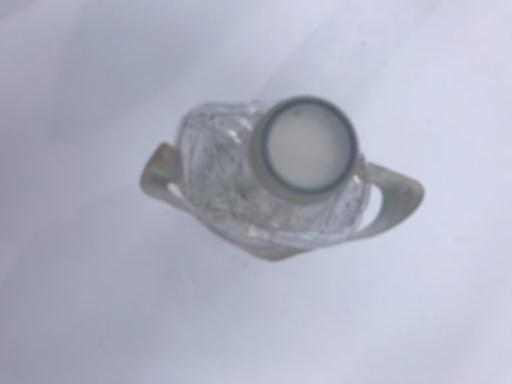PET: (140, 93, 426, 262)
plastic: (140, 93, 426, 262)
water: (140, 93, 426, 262)
